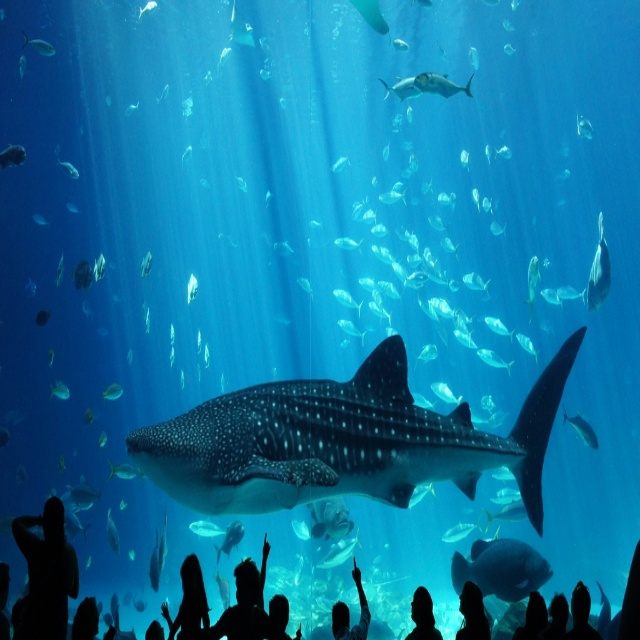Shark: (126, 332, 587, 537)
